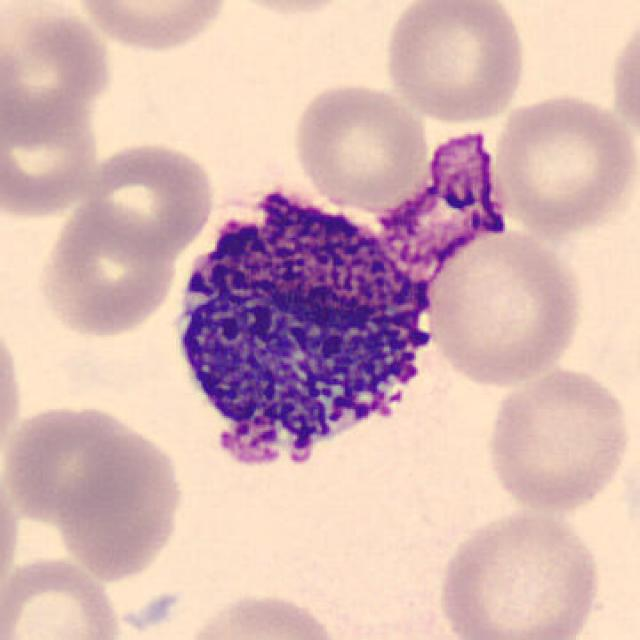Basophil: (158, 171, 460, 492)
RBC: (421, 224, 587, 390), (480, 362, 633, 516), (432, 506, 606, 640), (0, 400, 180, 529), (52, 418, 188, 583), (487, 88, 637, 236), (34, 198, 180, 340), (288, 77, 432, 212), (378, 0, 532, 125), (78, 138, 219, 259), (0, 2, 116, 148), (0, 92, 103, 222), (0, 552, 126, 640), (68, 0, 234, 55), (176, 587, 348, 640), (608, 10, 640, 154), (0, 308, 27, 471), (0, 457, 25, 610), (217, 0, 366, 18)
